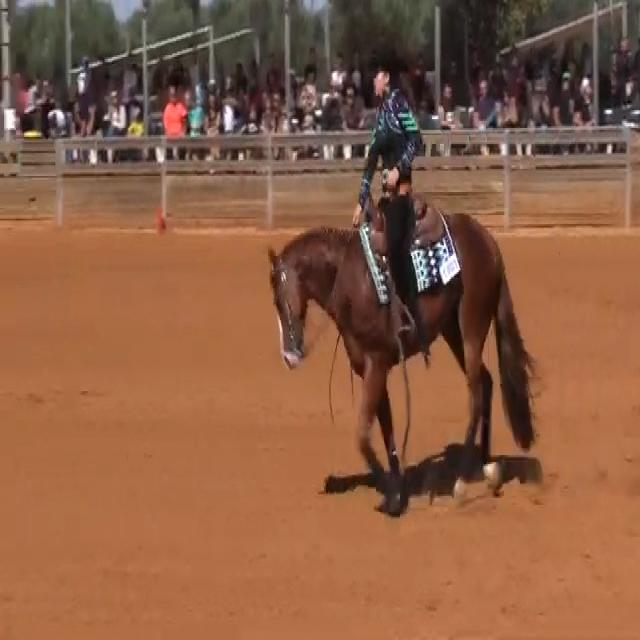horse: (265, 192, 540, 516)
